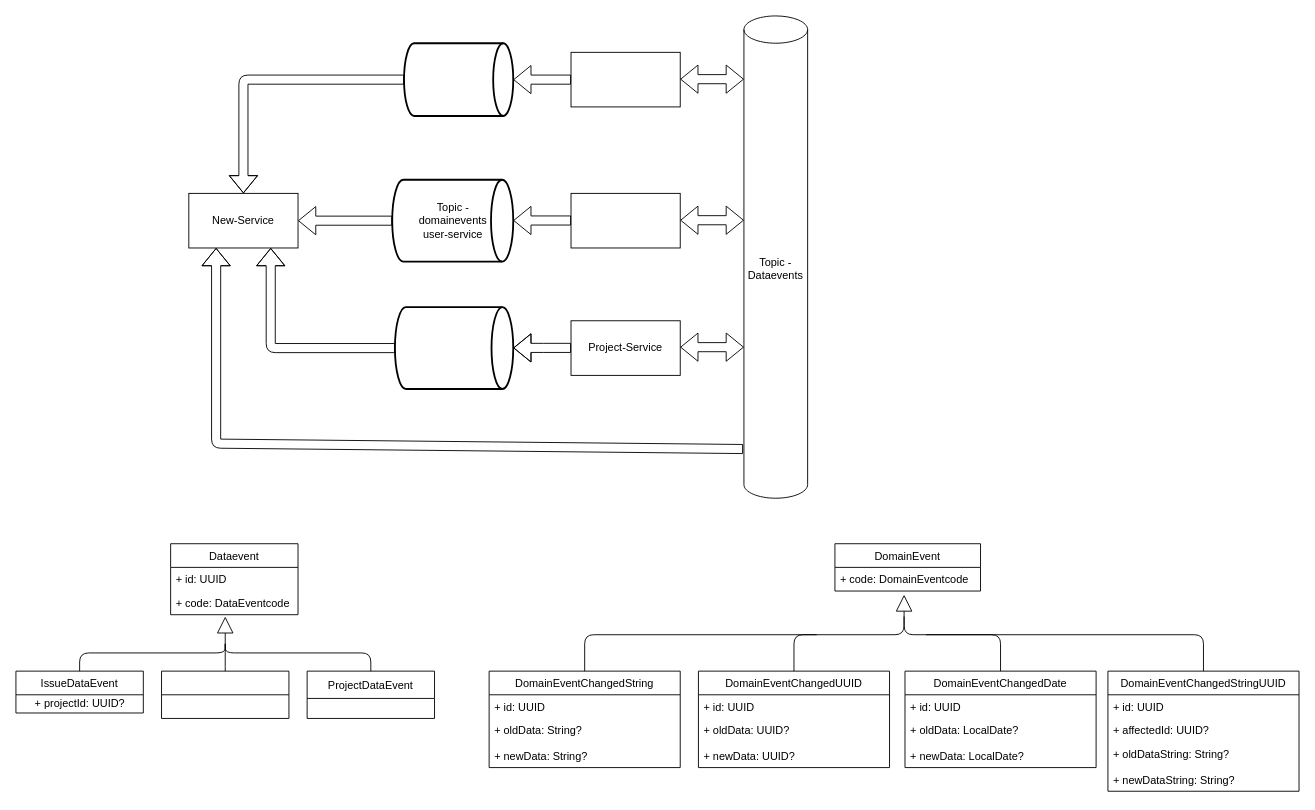
The diagram is 1315 pixels wide and 810 high, and some of its shapes have lost their labels. Each missing label, with the centre of its shape:
Issue-Service: the point at 625,79
Topic - domainevents issue-service: the point at 458,79
Topic - domainevents project-service: the point at 454,347
User-Service: the point at 625,220
UserDataEvent: the point at 225,694
